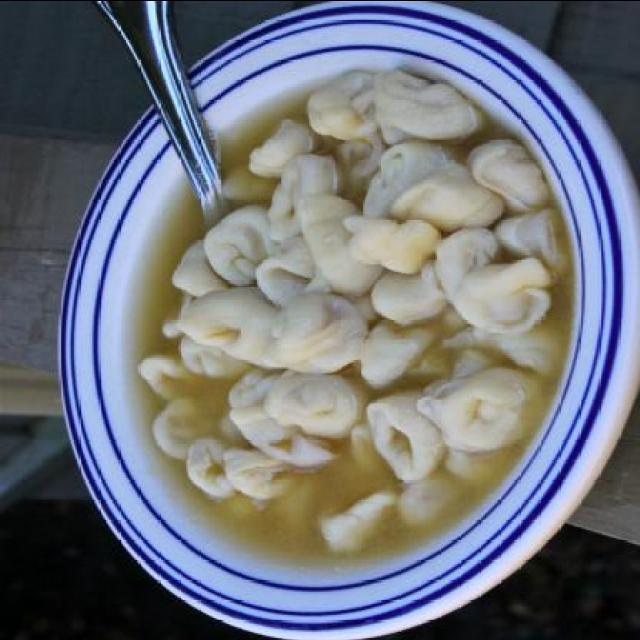Tortellini in broth: (140, 180, 528, 488)
